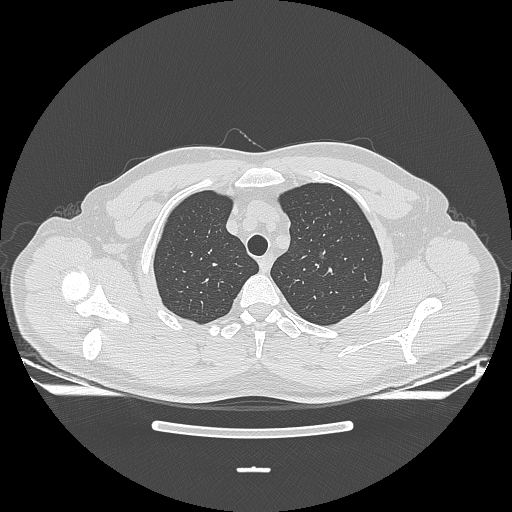nodule: (318, 251, 324, 259)
